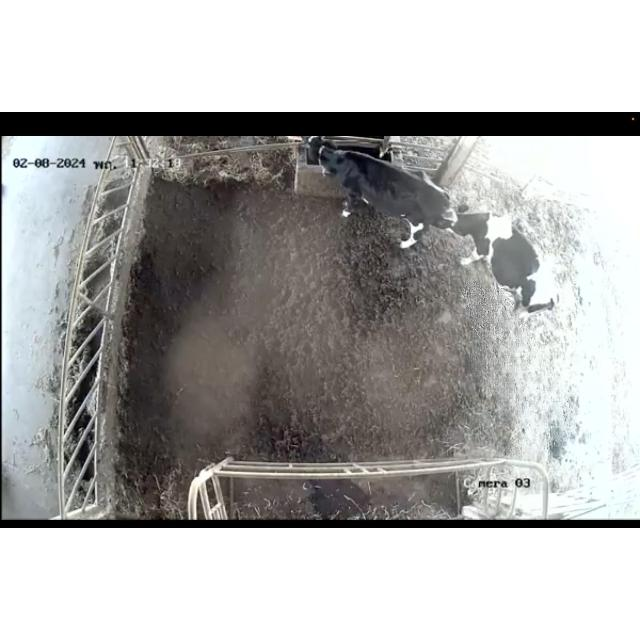drink: (298, 135, 366, 191)
stand: (449, 212, 559, 317)
